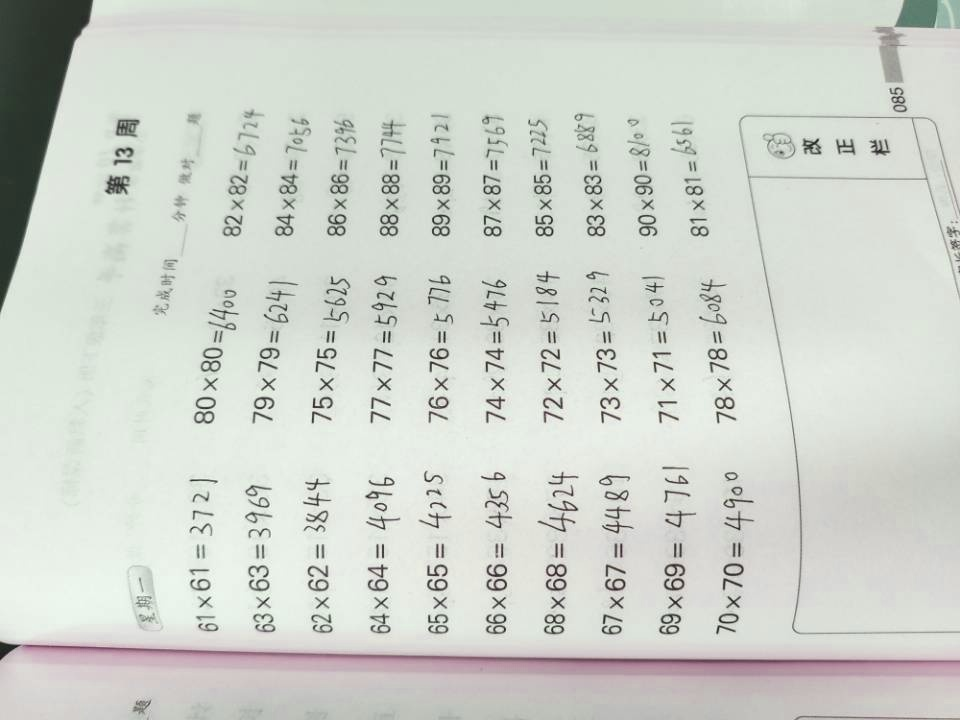equation: (625, 254, 690, 435), (576, 460, 640, 640), (706, 449, 763, 647), (689, 267, 753, 429), (527, 461, 584, 642), (643, 452, 695, 644), (240, 271, 302, 432), (231, 470, 288, 645), (470, 461, 523, 648), (303, 264, 360, 435), (186, 270, 244, 434), (663, 106, 732, 243), (523, 265, 579, 431), (175, 465, 227, 643), (351, 465, 404, 639), (410, 463, 460, 642), (414, 98, 471, 252), (579, 253, 627, 435), (415, 267, 468, 431), (511, 103, 568, 254), (363, 263, 412, 435), (473, 267, 522, 435), (362, 106, 415, 254), (296, 471, 342, 639), (563, 94, 614, 242), (617, 109, 670, 248), (266, 103, 318, 244), (317, 103, 366, 250), (217, 94, 263, 246), (471, 106, 511, 245)
